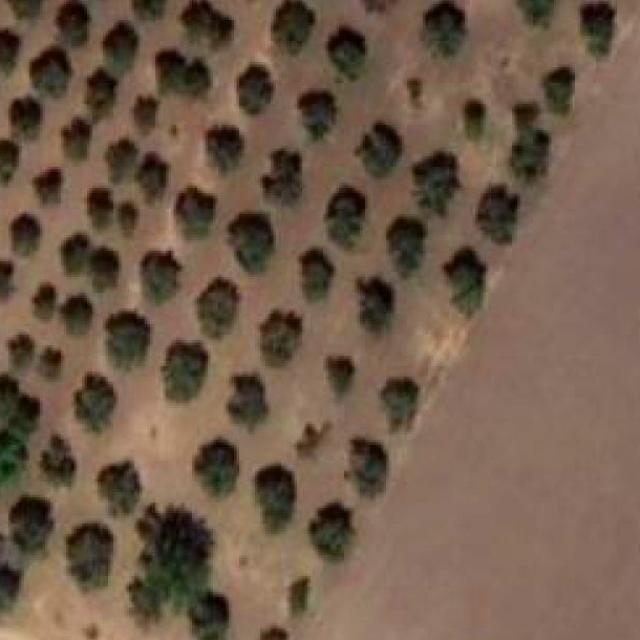Tree: (61, 520, 124, 596), (142, 497, 206, 571), (155, 338, 211, 409), (441, 246, 489, 321), (253, 306, 308, 369), (346, 275, 396, 344), (570, 0, 626, 61), (223, 372, 276, 436), (195, 264, 241, 337), (311, 495, 364, 558), (221, 208, 276, 268), (108, 306, 156, 374), (326, 182, 377, 245), (410, 146, 461, 208), (341, 434, 388, 500), (192, 436, 241, 498), (502, 133, 557, 188), (8, 497, 60, 555), (376, 369, 422, 434), (262, 136, 310, 198), (418, 0, 468, 58), (299, 83, 347, 143), (122, 560, 173, 614), (253, 466, 295, 530), (134, 251, 184, 304), (184, 588, 234, 640), (271, 0, 318, 55), (326, 18, 372, 74), (354, 114, 398, 172), (178, 0, 237, 43), (236, 60, 285, 109), (390, 212, 432, 269), (316, 350, 362, 402), (479, 191, 524, 244), (71, 377, 120, 425), (96, 461, 140, 512), (40, 440, 84, 489), (174, 188, 212, 241), (12, 212, 48, 264), (100, 12, 140, 58), (197, 120, 233, 170), (544, 60, 580, 110), (295, 246, 337, 288), (61, 292, 100, 334), (169, 54, 208, 96), (462, 88, 495, 135), (5, 88, 39, 133), (58, 0, 92, 45), (33, 51, 69, 90), (0, 25, 25, 81), (111, 198, 144, 240), (80, 75, 118, 111), (82, 243, 113, 286), (33, 348, 69, 384), (53, 230, 87, 268), (0, 135, 25, 186), (52, 114, 86, 151), (134, 154, 166, 193), (35, 277, 64, 320), (0, 538, 20, 600), (278, 571, 312, 607), (517, 0, 559, 29), (8, 0, 49, 29), (129, 91, 160, 128), (87, 180, 117, 218), (410, 72, 436, 114), (0, 426, 22, 475), (35, 165, 63, 202), (101, 133, 133, 165), (6, 330, 35, 365), (154, 46, 185, 77), (510, 101, 538, 134), (250, 623, 301, 640), (0, 374, 18, 421), (0, 248, 16, 294), (132, 0, 169, 19), (0, 75, 3, 114)
